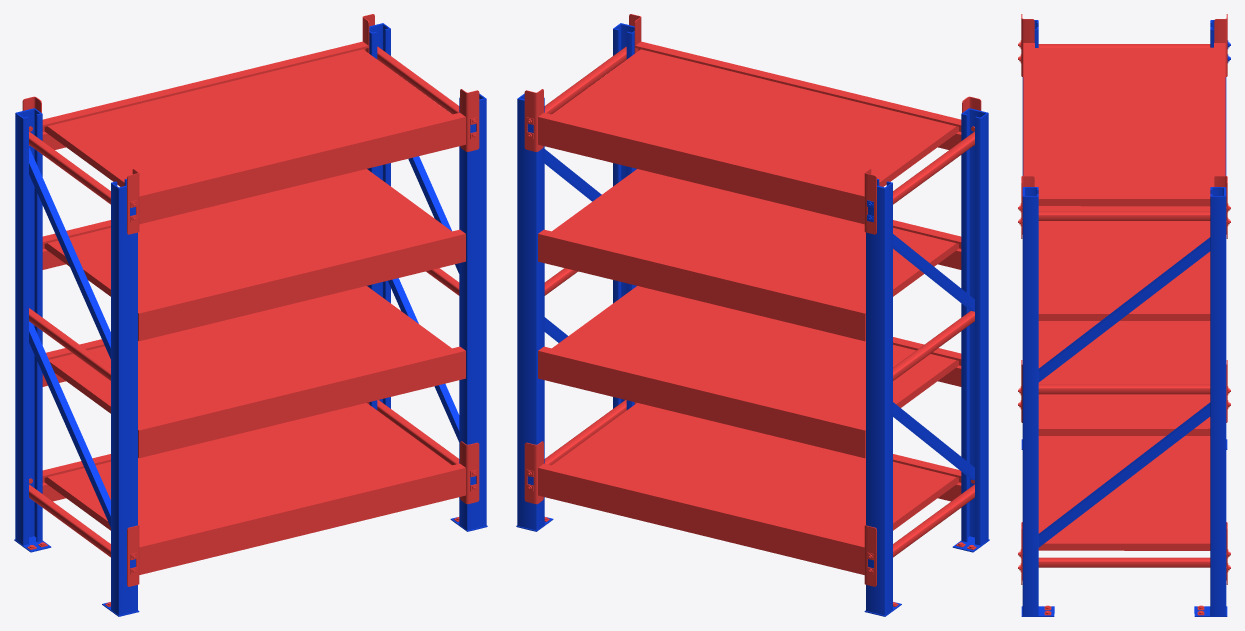
Rendered from shelfA.fbx.
3 views of the same model, side by side, from view 1: azimuth 30°, elevation 25°; view 2: azimuth 150°, elevation 25°; view 3: azimuth 270°, elevation 25° (orthographic).
Parts seen in each view (by area): view 1: divider.002, shelf.002; view 2: divider.002, shelf.002; view 3: divider.002, shelf.002.
Boxes of the visible parts, x1,y1,x2,y2 form: divider.002: (44, 49, 451, 541); shelf.002: (14, 14, 487, 616); divider.002: (552, 49, 958, 541); shelf.002: (516, 14, 989, 616); divider.002: (1035, 47, 1213, 550); shelf.002: (1018, 14, 1230, 616).
Bounding box in the file's own units: 173 × 196 × 87.91.
